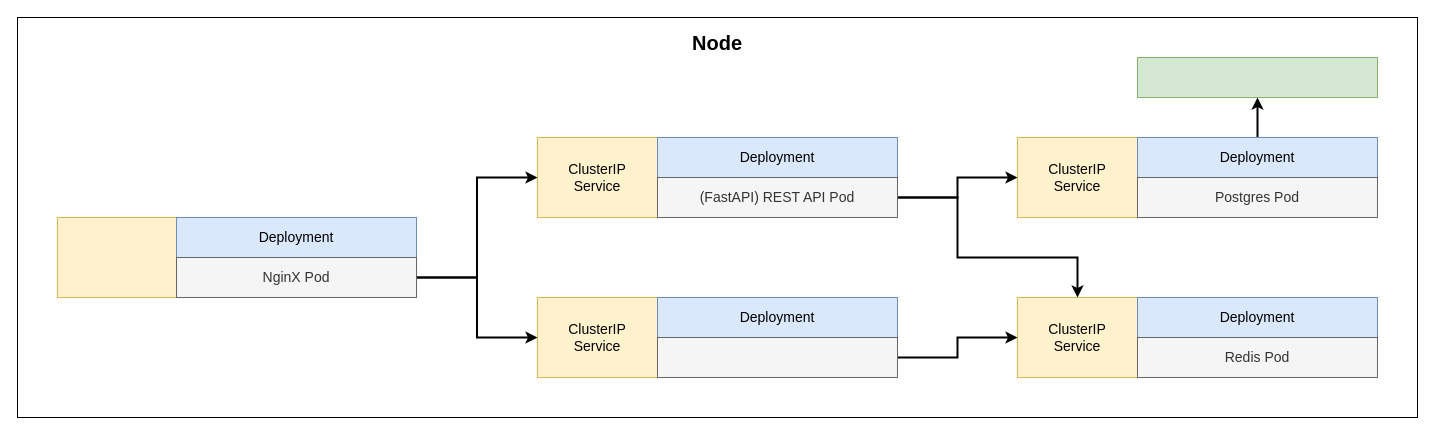
The diagram is 1435 pixels wide and 435 high, and some of its shapes have lost their labels. The shapes that lost their labels are listed below. From the top down, each one's centre as x and y in pixels, then its label:
point 1257,77: Postgres PVC
point 116,257: LoadBalancer Service
point 777,357: (Express) REST API Pod
